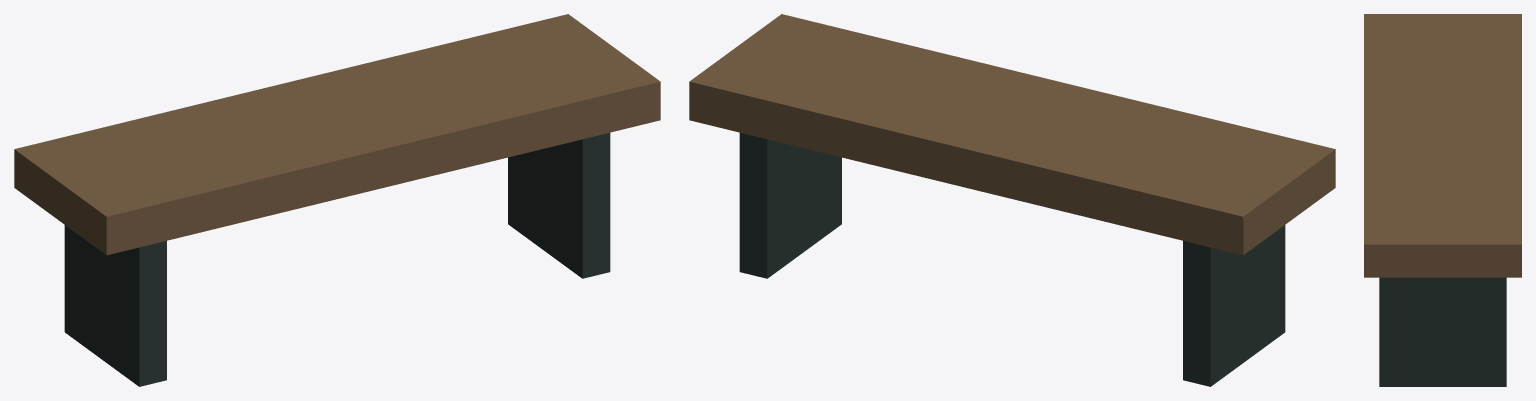
Rendered from bench.glb.
3 renders of one model, left to right at view 1: azimuth 30°, elevation 25°; view 2: azimuth 150°, elevation 25°; view 3: azimuth 270°, elevation 25°, orthographic. The views are drawn at different scales.
Visible parts, largest first — view 1: bench; view 2: bench; view 3: bench.
Part boxes in pixels (x1,y1,x2,y2): bench: [14, 14, 660, 386]; bench: [689, 14, 1335, 386]; bench: [1364, 14, 1521, 386].
Bounding box in the file's own units: 1.8 × 0.58 × 0.52.
